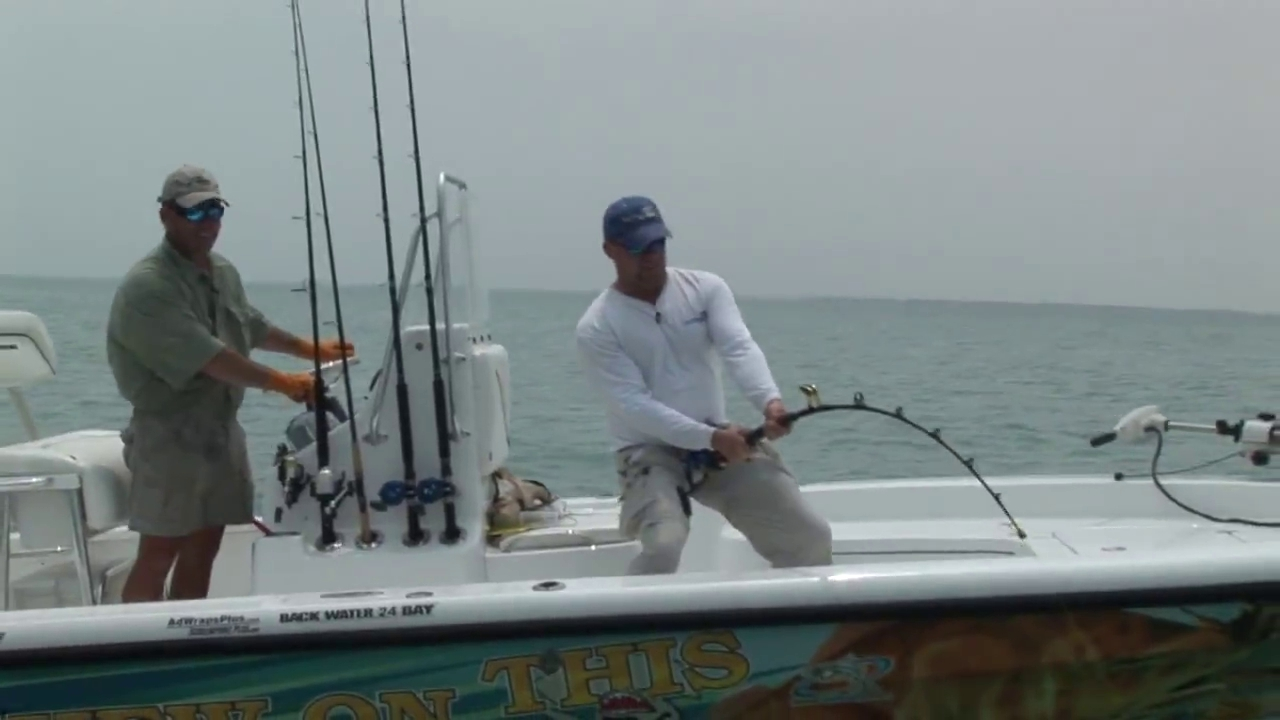person: (106, 165, 354, 602), (574, 196, 832, 575)
